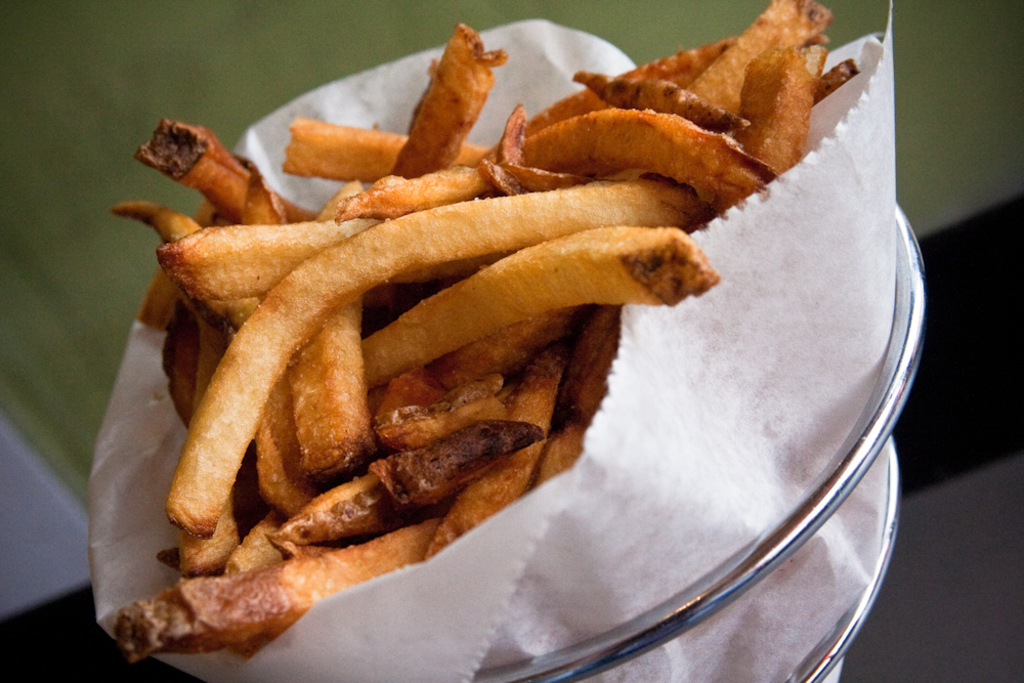French fries: (122, 70, 724, 630)
